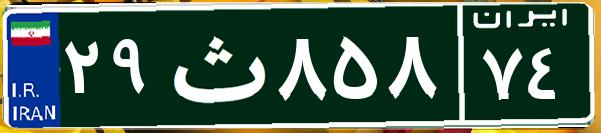2: (57, 26, 110, 107)
4: (525, 38, 570, 115)
5: (330, 28, 385, 110)
7: (475, 38, 525, 113)
8: (385, 28, 445, 110), (273, 28, 330, 110)
9: (110, 28, 158, 105)
ث: (158, 15, 273, 115)
